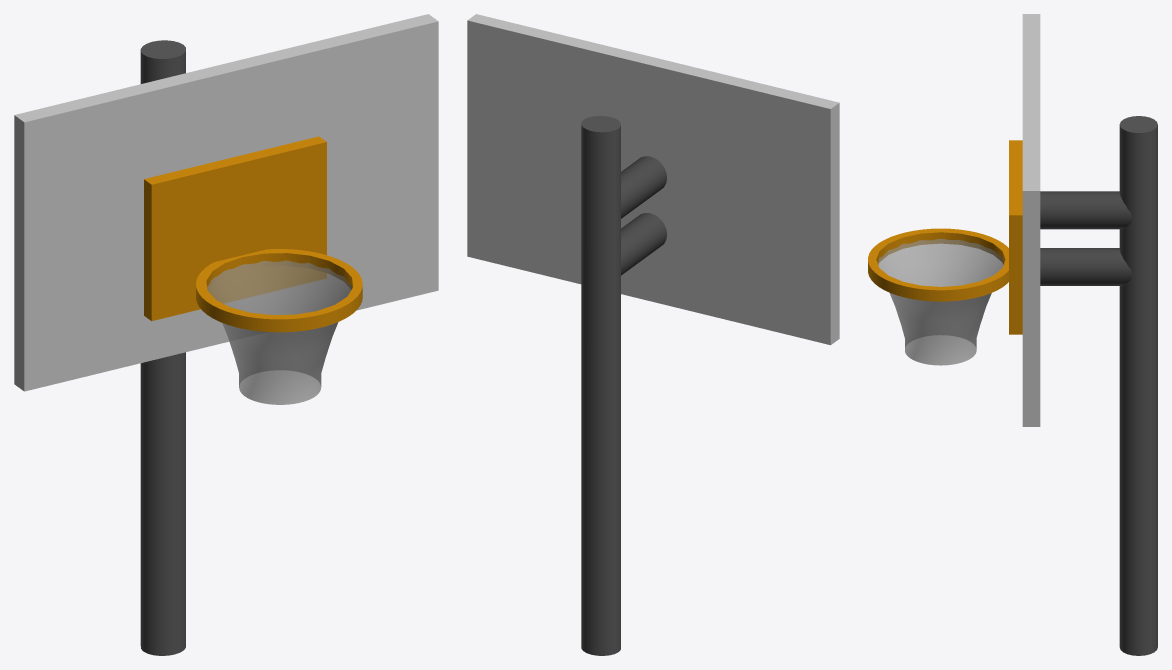
File: Panier.fbx
3 views of the same model, side by side, from view 1: azimuth 30°, elevation 25°; view 2: azimuth 150°, elevation 25°; view 3: azimuth 270°, elevation 25° (orthographic). The views are drawn at different scales.
Parts seen in each view (by area): view 1: pCube4, pCube2, pCylinder13, pCylinder6, pCylinder16; view 2: pCube4, pCylinder13, pCylinder14, pCylinder15; view 3: pCylinder13, pCylinder6, pCube4, pCylinder16, pCylinder14, pCylinder15, pCube2.
Boxes of the visible parts, x1,y1,x2,y2 form: pCube4: (14, 14, 438, 391); pCube2: (144, 136, 326, 321); pCylinder13: (140, 40, 185, 655); pCylinder6: (207, 260, 352, 404); pCylinder16: (196, 249, 362, 332); pCube4: (467, 14, 839, 345); pCylinder13: (581, 116, 620, 655); pCylinder14: (621, 156, 666, 218); pCylinder15: (621, 213, 666, 275); pCylinder13: (1119, 116, 1157, 655); pCylinder6: (878, 239, 1003, 365); pCube4: (1022, 14, 1040, 426); pCylinder16: (868, 228, 1008, 301); pCylinder14: (1040, 191, 1132, 229); pCylinder15: (1040, 248, 1132, 285); pCube2: (1009, 140, 1022, 334).
Bounding box in the file's own units: 5.73 × 8.24 × 3.97.
